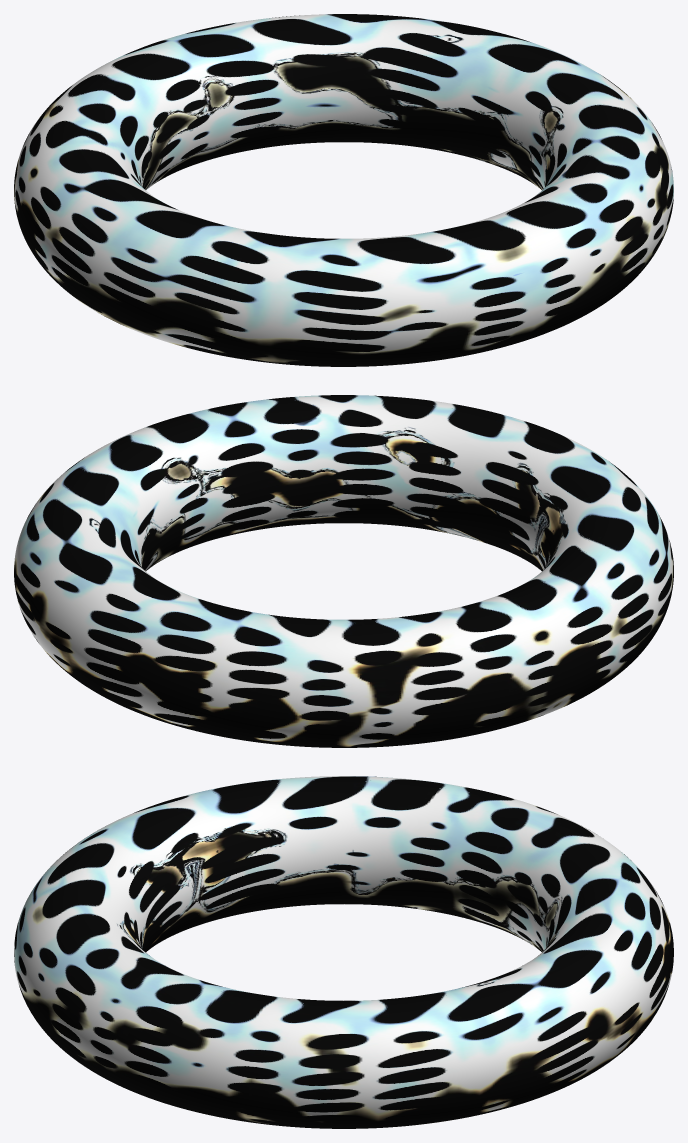
File: donut-bla-4.glb
The picture shows the model from 3 angles, top to bottom: view 1: azimuth 30°, elevation 25°; view 2: azimuth 150°, elevation 25°; view 3: azimuth 270°, elevation 25°; orthographic projection.
Visible parts, largest first — view 1: Torus; view 2: Torus; view 3: Torus.
Part boxes in pixels (x1,y1,x2,y2): Torus: (14,14,673,366); Torus: (14,395,673,747); Torus: (14,776,673,1128).
Bounding box in the file's own units: 19.06 × 3.7 × 19.06.
1 material, 1 textured.
